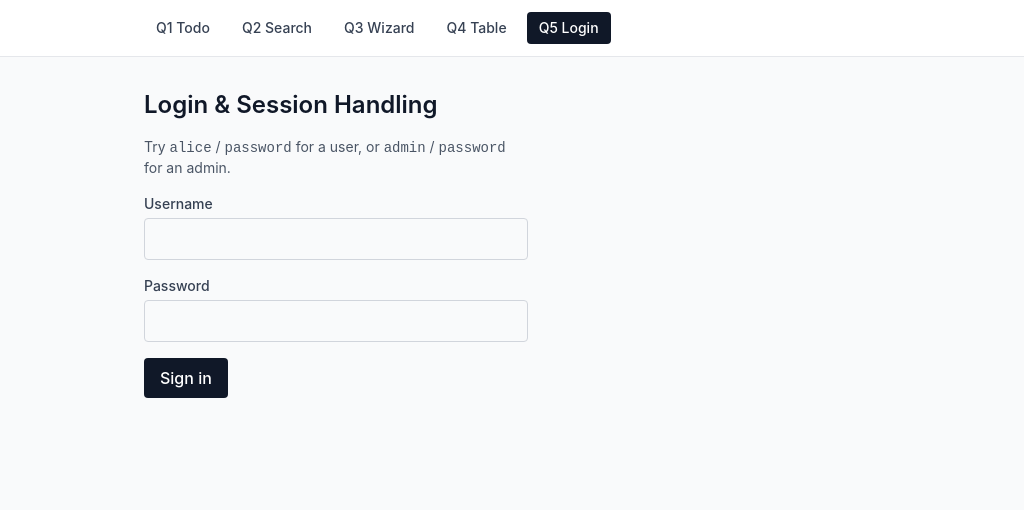
login and session flow › sends a logged-out visitor to login and lands on the account page after signing in
Expected: the heading "Login & Session Handling" is shown, [144,90,438,119]
Type "alice" into the field labelled "Username".
click(336, 239); type("alice")  # box [144,218,528,260]
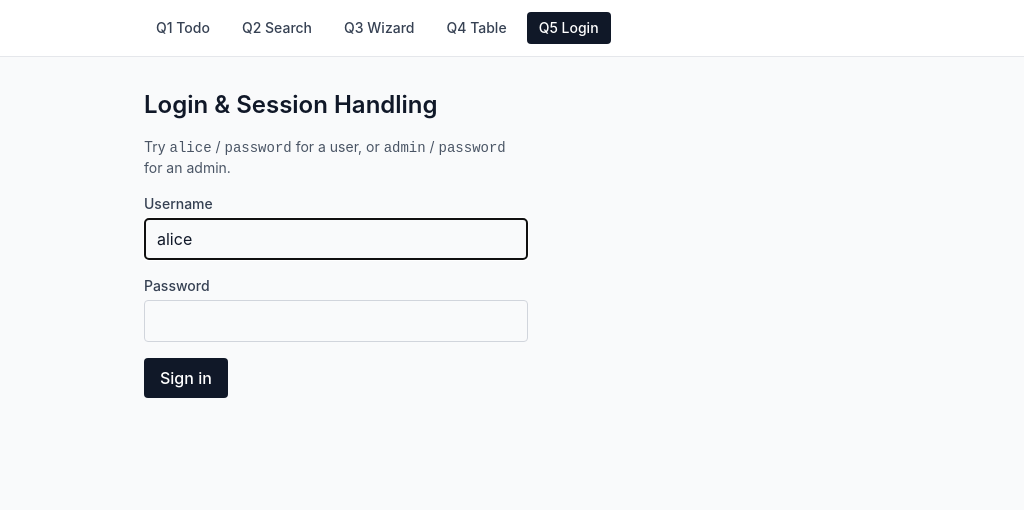
Type "password" into the password field labelled "Password".
click(336, 321); type("password")  # box [144,300,528,342]
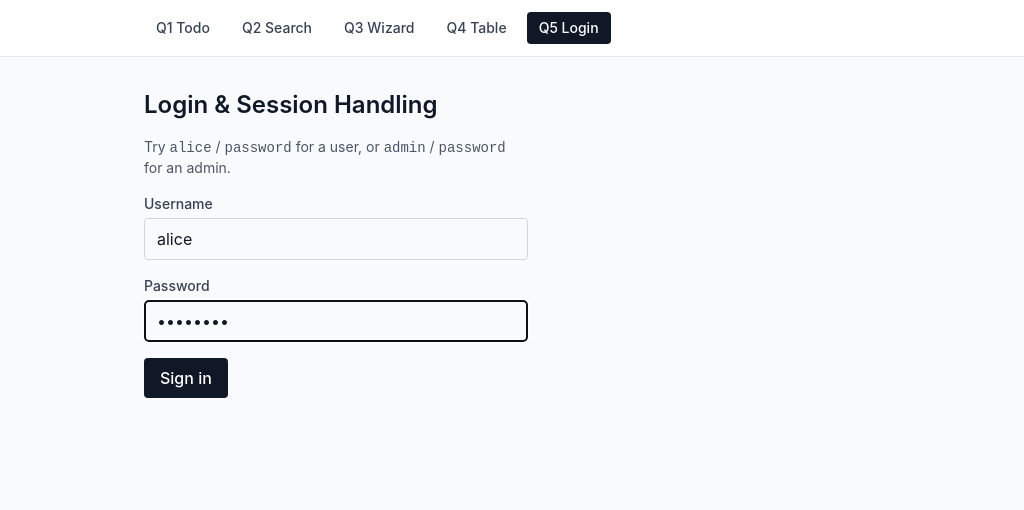
Click the button "Sign in".
click(186, 378)  # box [144,358,228,398]
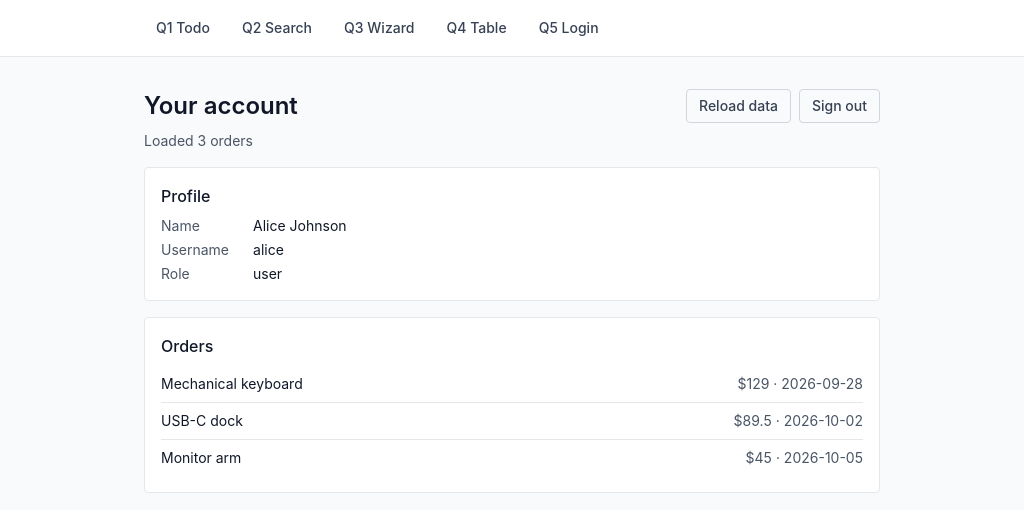
Expected: the heading "Your account" is shown, [144,90,298,122]
Expected: the text "Mechanical keyboard" is shown, [161,374,303,394]
Expected: the text "Alice Johnson" is shown, [253,217,346,234]
